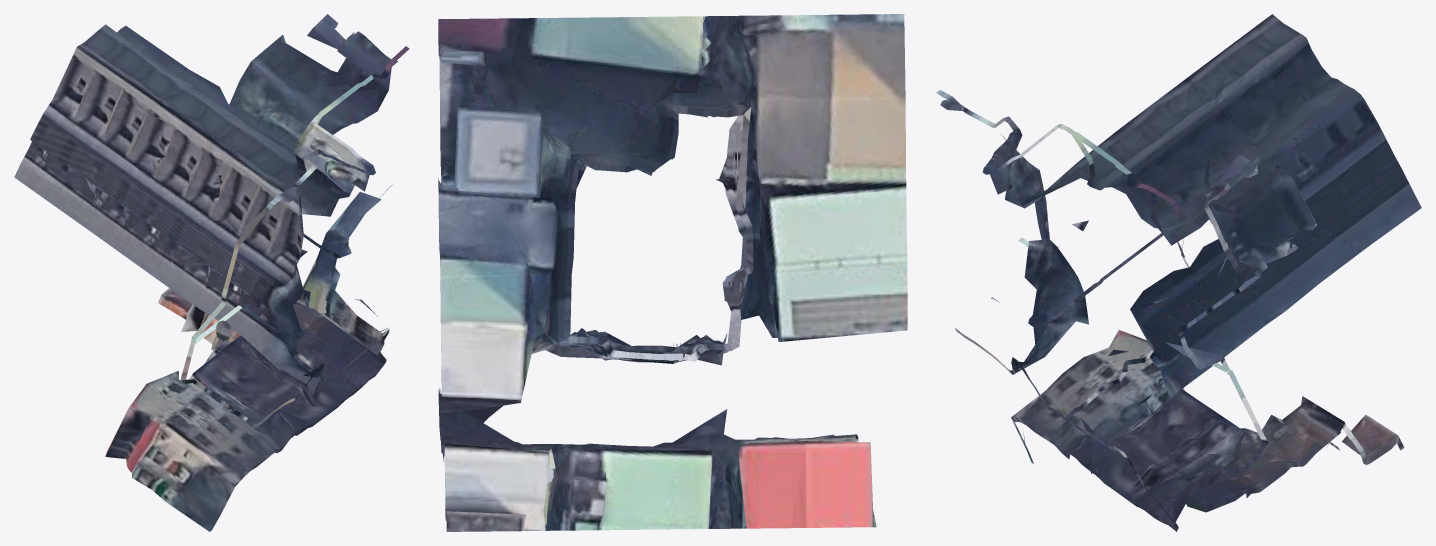
3 renders of one model, left to right at view 1: azimuth 30°, elevation 25°; view 2: azimuth 150°, elevation 25°; view 3: azimuth 270°, elevation 25°, orthographic. The views are drawn at different scales.
Size of the model in its own units: 35.74 by 43.78 by 44.02.
1 material, 1 textured.
